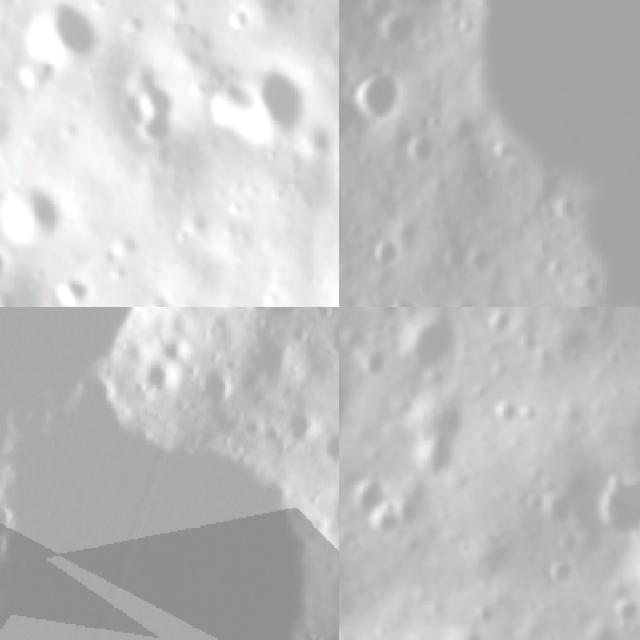crater: (0, 402, 339, 640), (0, 307, 305, 501), (208, 61, 318, 150), (18, 0, 107, 80), (340, 55, 422, 135), (110, 58, 180, 145), (395, 307, 472, 381), (0, 173, 73, 246), (580, 463, 640, 550), (371, 0, 447, 63), (339, 63, 380, 161), (265, 397, 326, 455), (392, 118, 450, 178), (134, 350, 190, 410), (359, 226, 415, 280), (195, 357, 247, 409), (152, 326, 202, 376), (361, 489, 404, 542), (44, 270, 101, 307), (537, 485, 578, 529), (535, 551, 577, 591), (314, 427, 339, 478), (381, 289, 435, 307), (0, 275, 23, 307), (0, 525, 14, 568), (339, 563, 348, 609)
